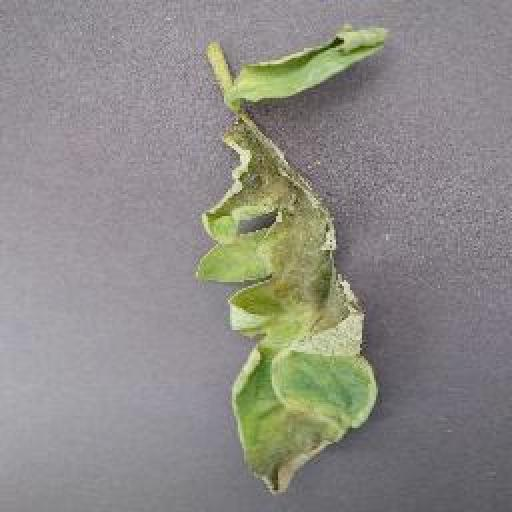disease_tomato: (196, 109, 376, 495), (240, 26, 390, 102)
